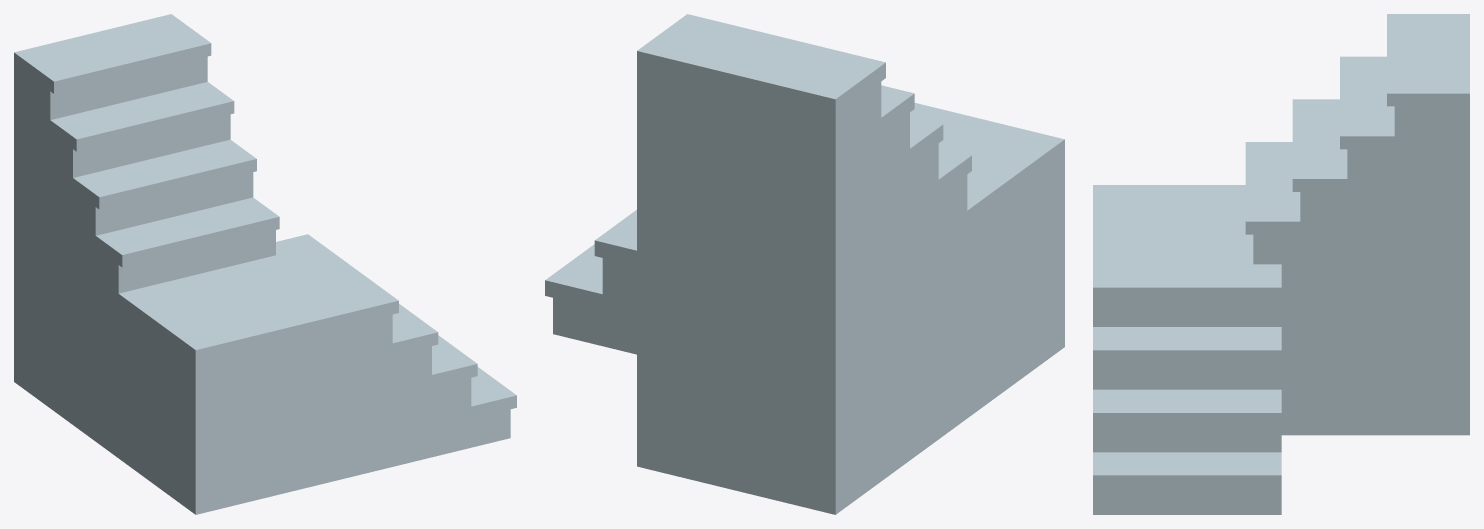
The model's file is stairs_stone_corner.glb.
3 renders of one model, left to right at view 1: azimuth 30°, elevation 25°; view 2: azimuth 150°, elevation 25°; view 3: azimuth 270°, elevation 25°, orthographic. The views are drawn at different scales.
Visible parts, largest first — view 1: stairsStoneCorner; view 2: stairsStoneCorner; view 3: stairsStoneCorner.
Part boxes in pixels (x1,y1,x2,y2): stairsStoneCorner: (14, 14, 516, 514); stairsStoneCorner: (545, 14, 1064, 514); stairsStoneCorner: (1093, 14, 1469, 514).
Size of the model in its own units: 1.02 by 1 by 1.
